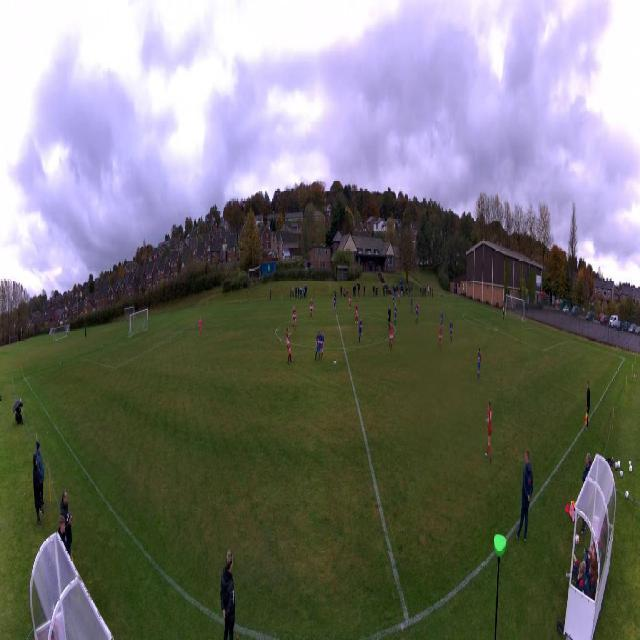ball: (333, 359, 337, 365)
player: (485, 399, 493, 463), (315, 332, 325, 361), (286, 326, 292, 368), (389, 323, 395, 351), (477, 347, 481, 383), (438, 325, 443, 352), (359, 316, 363, 342), (387, 305, 391, 330), (293, 305, 297, 329), (309, 298, 313, 322), (355, 302, 359, 324), (449, 320, 453, 342), (198, 316, 202, 337), (333, 295, 337, 315), (415, 303, 418, 324), (394, 305, 397, 325), (349, 292, 352, 309), (440, 311, 443, 328), (502, 305, 504, 322), (411, 297, 413, 313), (398, 288, 400, 304), (418, 298, 420, 313), (393, 291, 395, 306)
